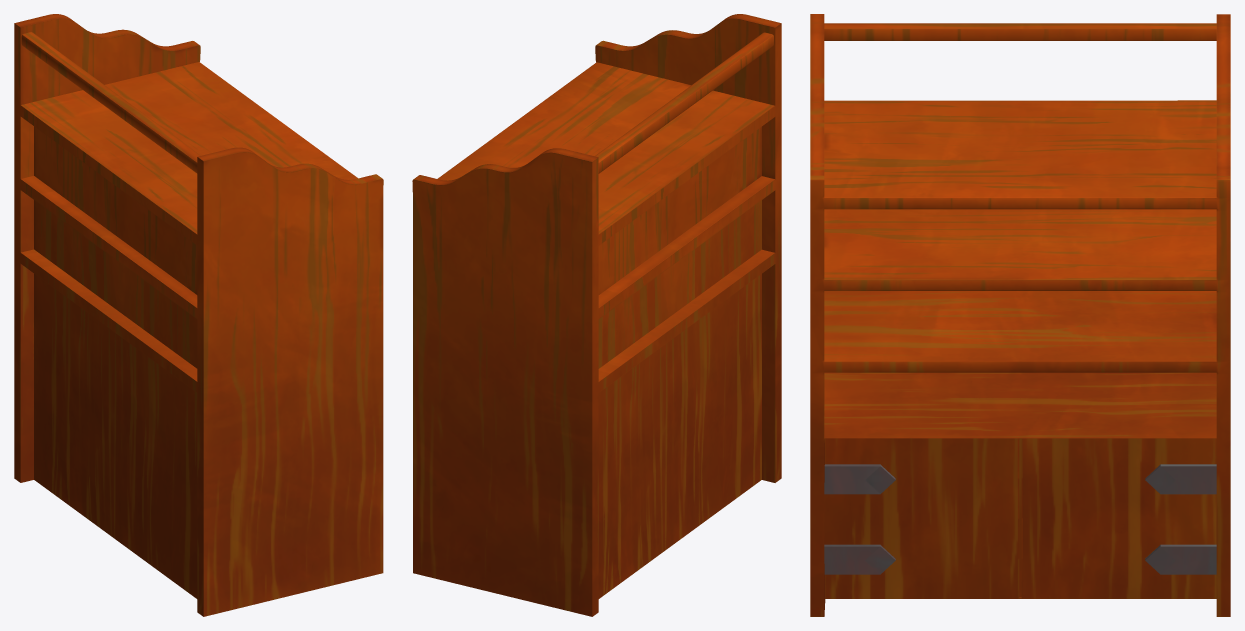
File: House_HighShelf_v01.fbx
3 views of the same model, side by side, from view 1: azimuth 30°, elevation 25°; view 2: azimuth 150°, elevation 25°; view 3: azimuth 270°, elevation 25° (orthographic). The views are drawn at different scales.
Visible parts, largest first — view 1: High_Shelf; view 2: High_Shelf; view 3: High_Shelf.
Part boxes in pixels (x1=…): High_Shelf: x1=14, y1=14, x2=383, y2=616; High_Shelf: x1=412, y1=14, x2=781, y2=616; High_Shelf: x1=810, y1=14, x2=1230, y2=616.
Size of the model in its own units: 78.1 by 142 by 189.
Materials: 2 (2 with a texture image).
